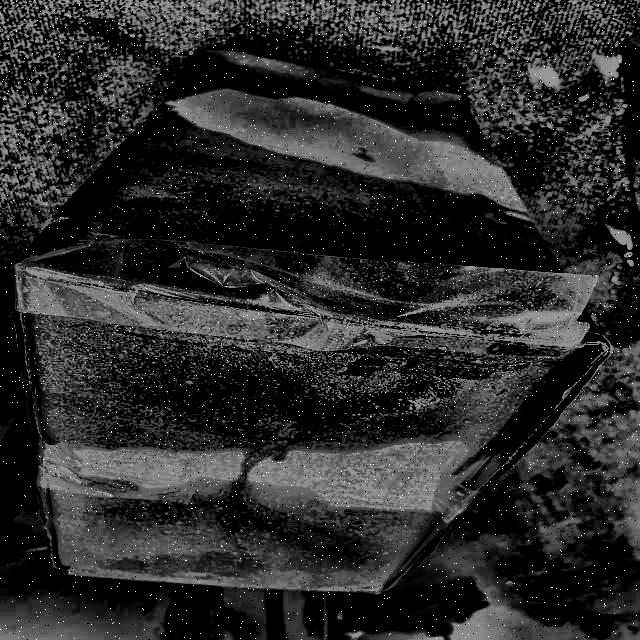box: (1, 26, 620, 603)
wet: (16, 272, 560, 449), (59, 117, 560, 270), (30, 490, 465, 603), (168, 48, 491, 156)
